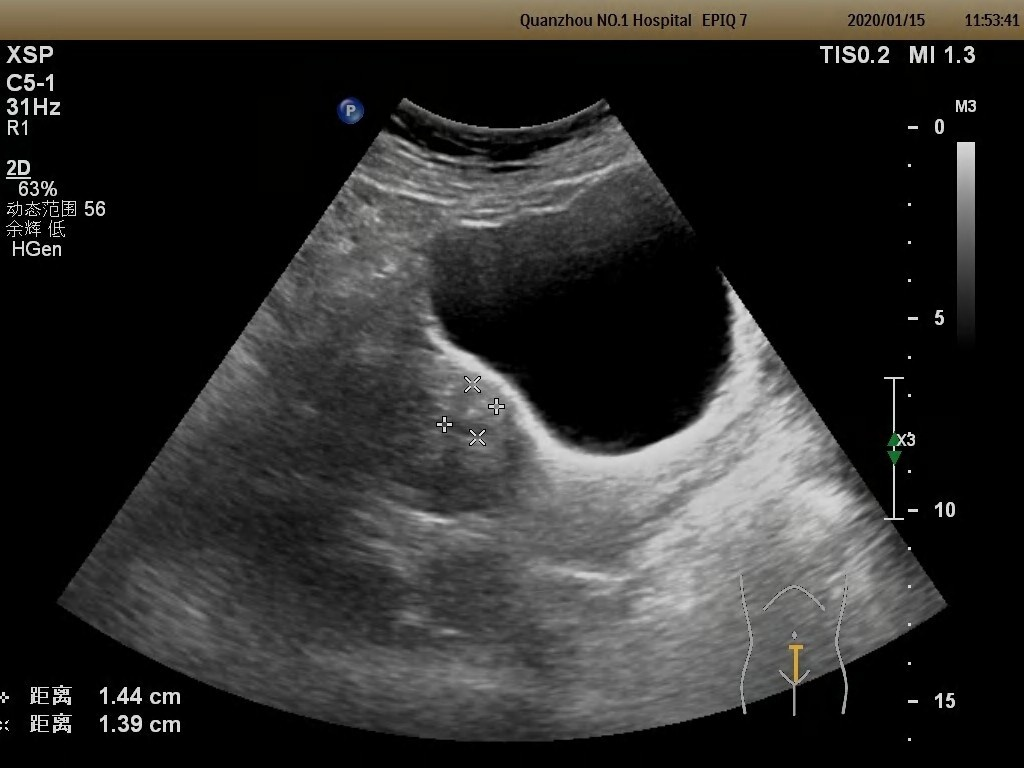肌瘤: (444, 384, 497, 439)
